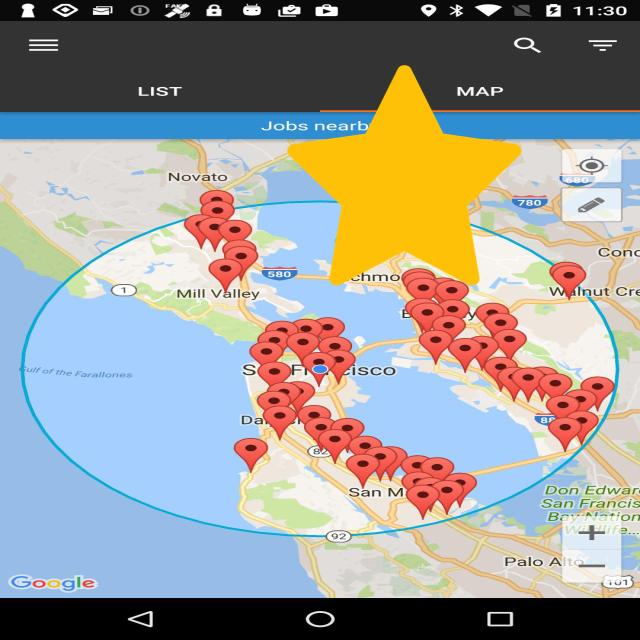forced continuity: (288, 65, 522, 286)
